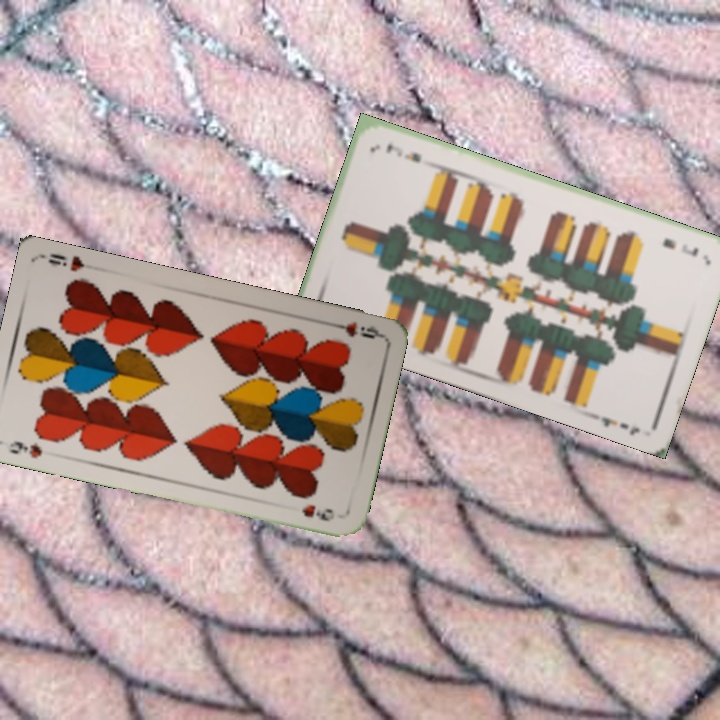E7: (658, 234, 701, 260)
H9: (324, 317, 383, 342), (5, 437, 45, 461)
